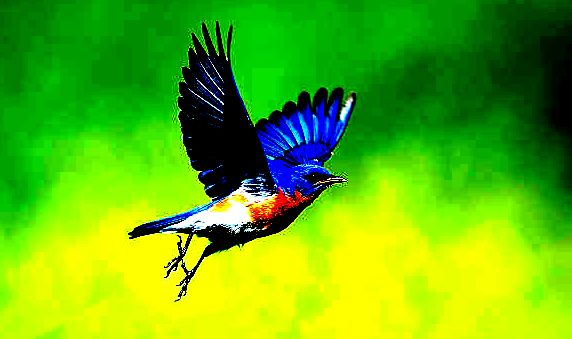Bird: (126, 17, 359, 306)
